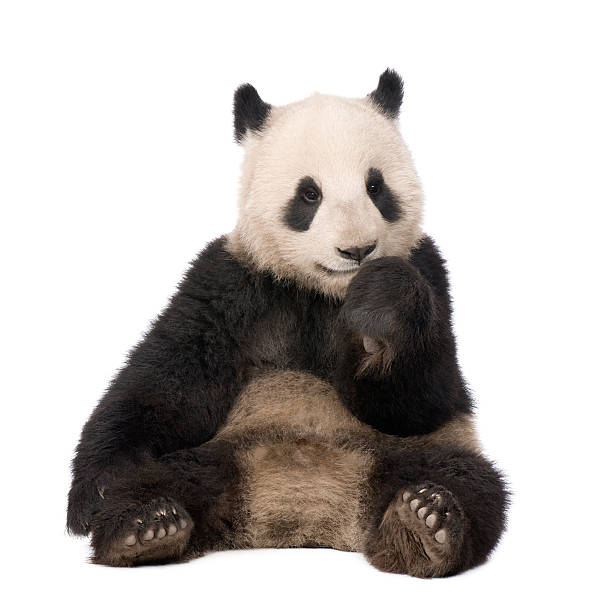panda: (186, 27, 459, 303)
